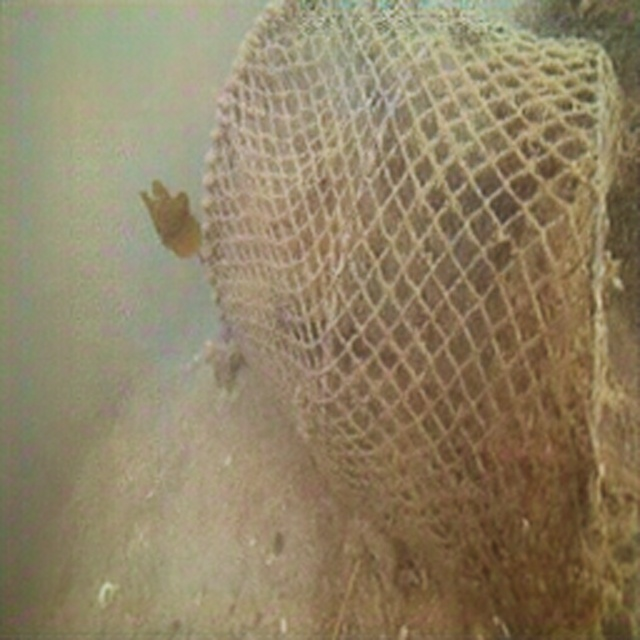mine: (202, 0, 640, 640)
